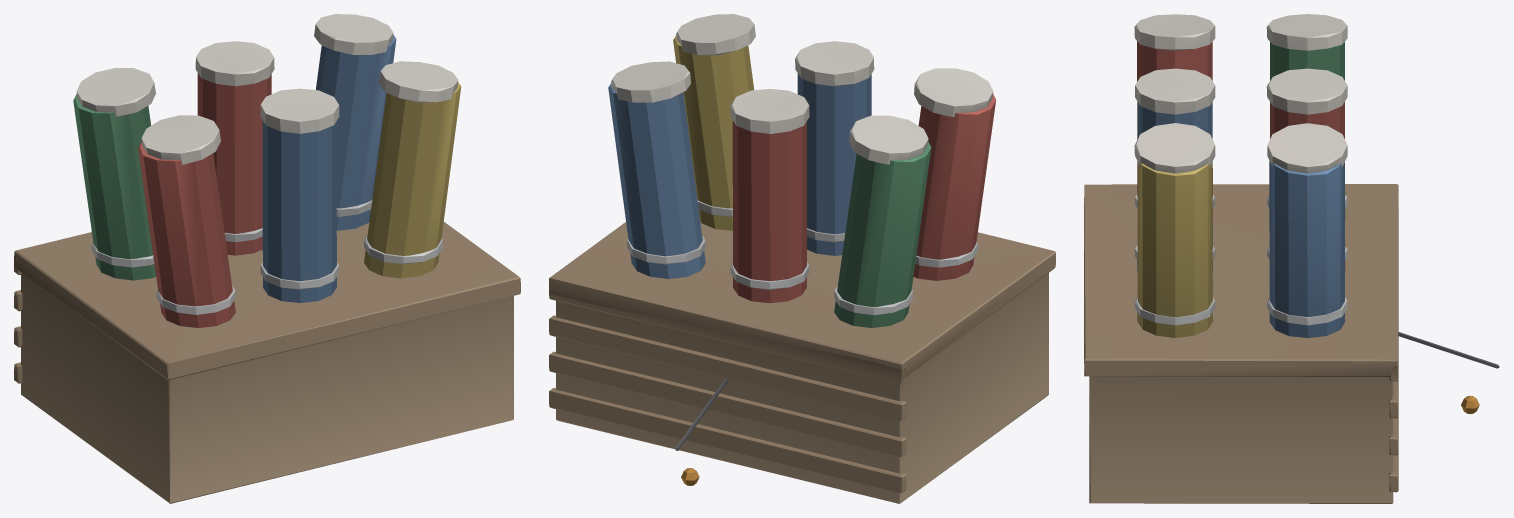
File: newyear_firework_launcher_low.glb
3 views of the same model, side by side, from view 1: azimuth 30°, elevation 25°; view 2: azimuth 150°, elevation 25°; view 3: azimuth 270°, elevation 25° (orthographic). The views are drawn at different scales.
Size of the model in its own units: 0.82 by 0.7343 by 0.817.
